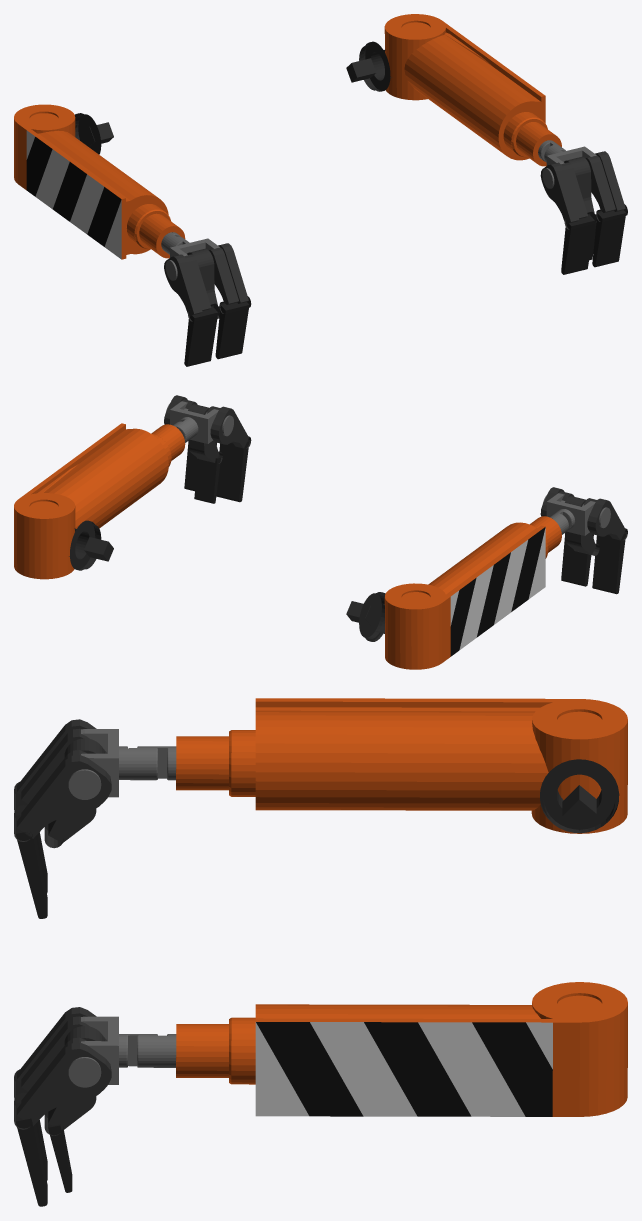
The model's file is walle_tangan3.obj.
3 renders of one model, top to bottom at view 1: azimuth 30°, elevation 25°; view 2: azimuth 150°, elevation 25°; view 3: azimuth 270°, elevation 25°, orthographic. The views are drawn at different scales.
Parts seen in each view (by area): view 1: hand.002; view 2: hand.002; view 3: hand.002.
Part boxes in pixels (x1,y1,x2,y2): hand.002: (14,14,627,366); hand.002: (14,395,627,669); hand.002: (14,698,627,1206).
Size of the model in its own units: 4.72 by 1.21 by 3.69.
